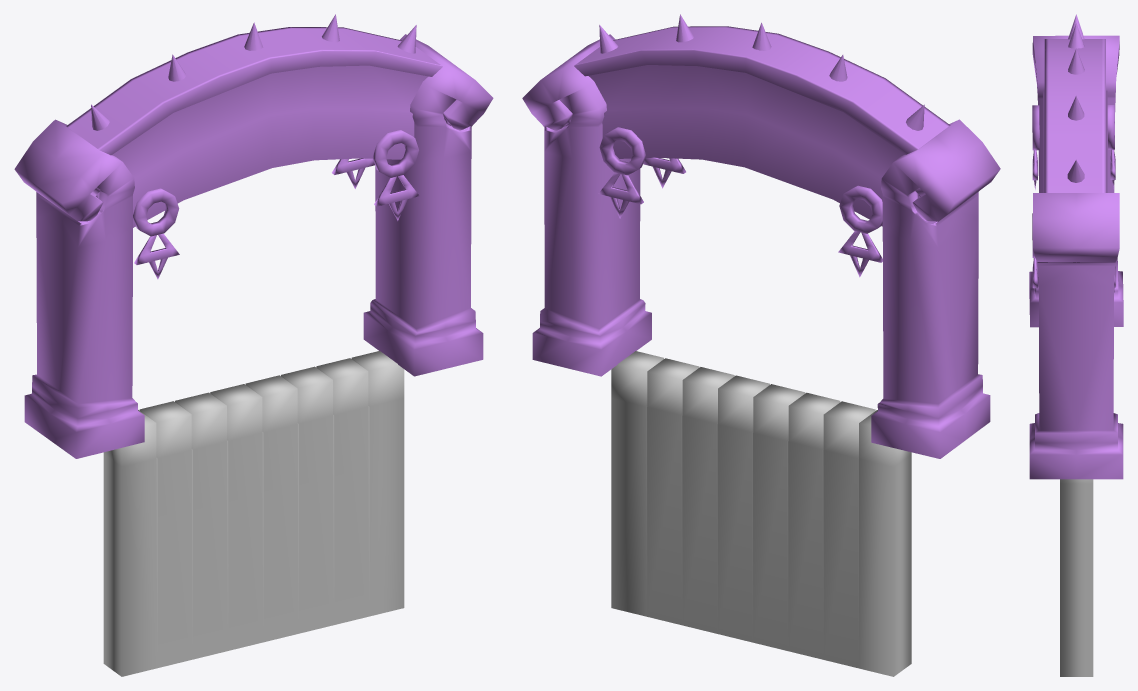
The model's file is Mesh_FrogGate.fbx.
The picture shows the model from 3 angles, left to right: view 1: azimuth 30°, elevation 25°; view 2: azimuth 150°, elevation 25°; view 3: azimuth 270°, elevation 25°; orthographic projection. The views are drawn at different scales.
Visible parts, largest first — view 1: base gate_low, gate door_low; view 2: base gate_low, gate door_low; view 3: base gate_low, gate door_low.
Part boxes in pixels (left/top/right/bottom): base gate_low: left=14, top=14, right=493, bottom=458; gate door_low: left=103, top=351, right=404, bottom=676; base gate_low: left=522, top=14, right=1000, bottom=458; gate door_low: left=611, top=351, right=911, bottom=676; base gate_low: left=1029, top=14, right=1123, bottom=479; gate door_low: left=1060, top=479, right=1093, bottom=676.
Size of the model in its own units: 580 by 787 by 119.
